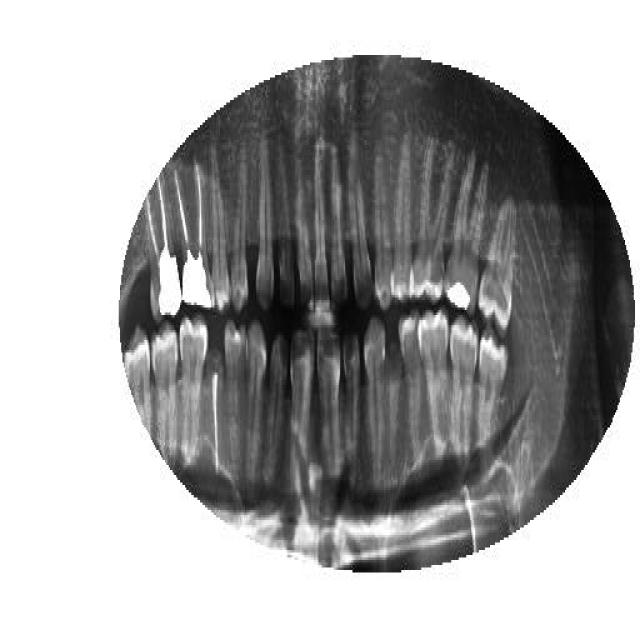Cavity: (205, 340, 226, 472)
Fillings: (445, 150, 490, 320)
Implant: (175, 155, 215, 323), (142, 180, 180, 320)
